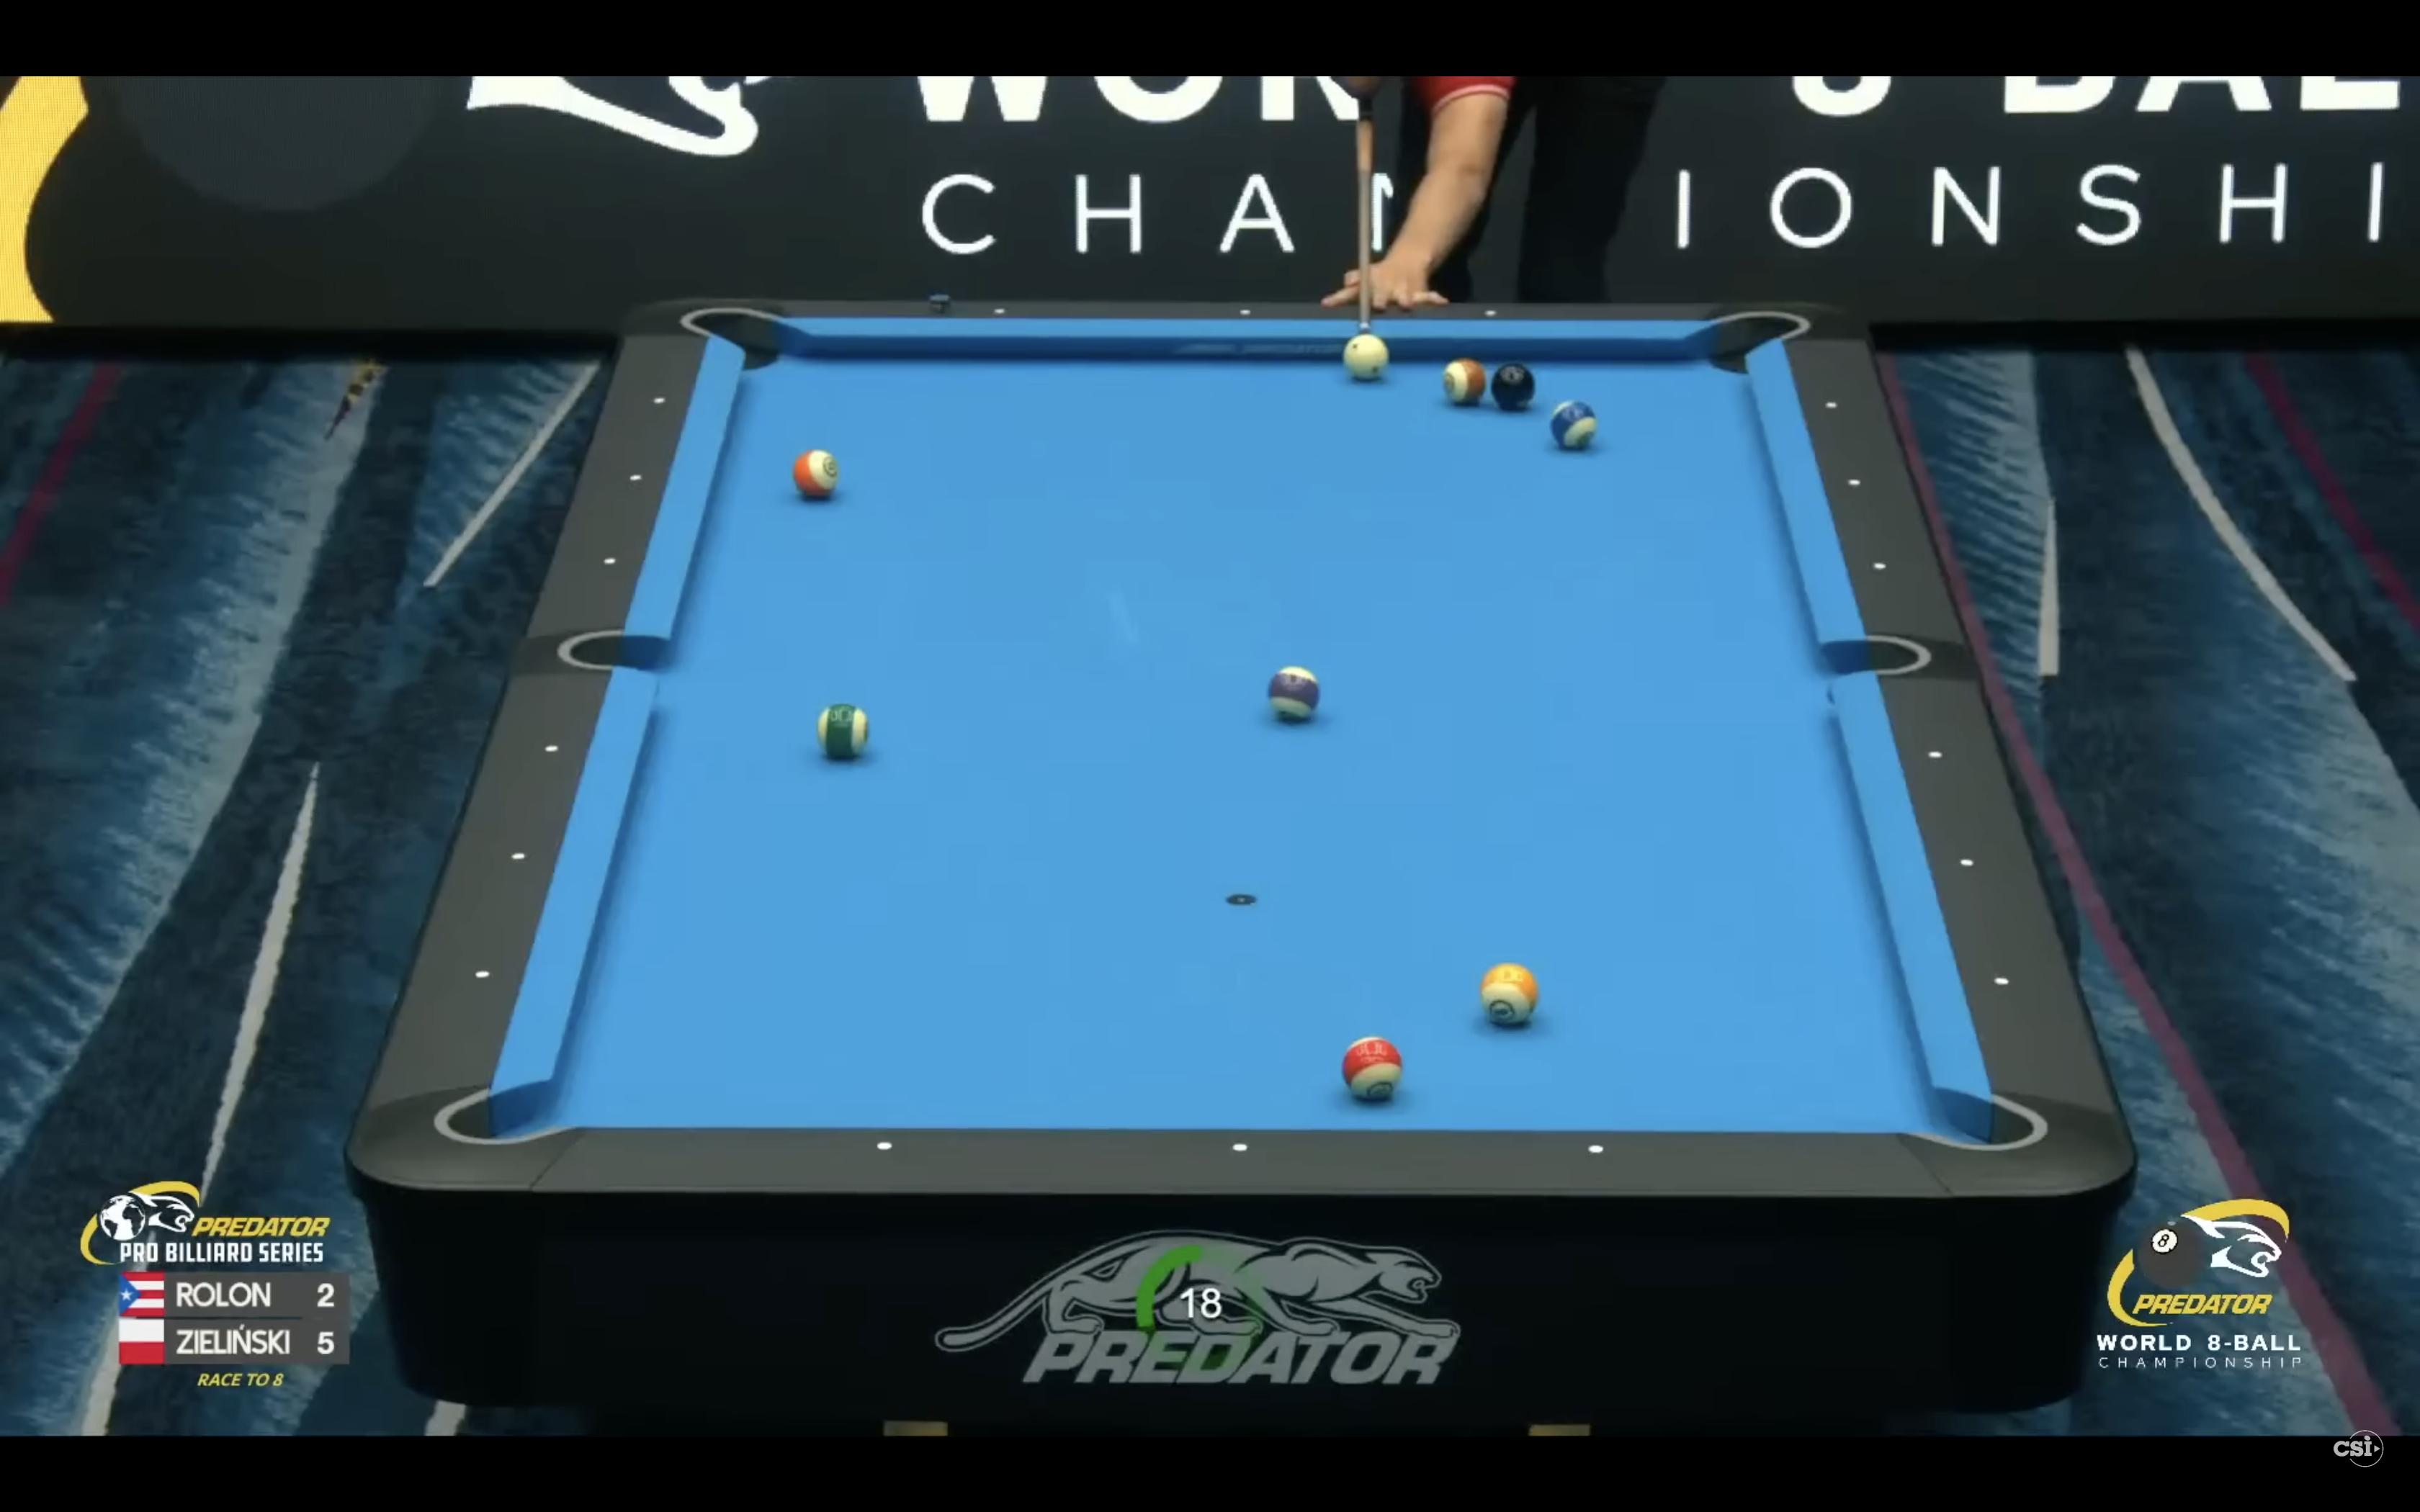Black: (1491, 361, 1538, 411)
Cue: (1343, 333, 1390, 383)
Dot: (1232, 1141, 1249, 1153), (474, 969, 491, 981), (1991, 975, 2011, 986), (1587, 1143, 1605, 1153), (627, 472, 645, 483), (1927, 749, 1943, 759), (544, 744, 559, 754), (510, 850, 526, 861), (876, 1141, 894, 1150), (1871, 561, 1889, 570), (1849, 477, 1864, 486), (1962, 857, 1974, 867), (1484, 308, 1497, 319), (1824, 401, 1838, 409), (1239, 308, 1253, 317), (603, 556, 615, 564), (993, 308, 1007, 315), (653, 397, 666, 404)
Striped: (1342, 1036, 1404, 1101), (1479, 962, 1540, 1028), (1268, 665, 1321, 725), (815, 702, 868, 758), (1549, 397, 1599, 451), (793, 449, 840, 500), (1443, 355, 1488, 408)
